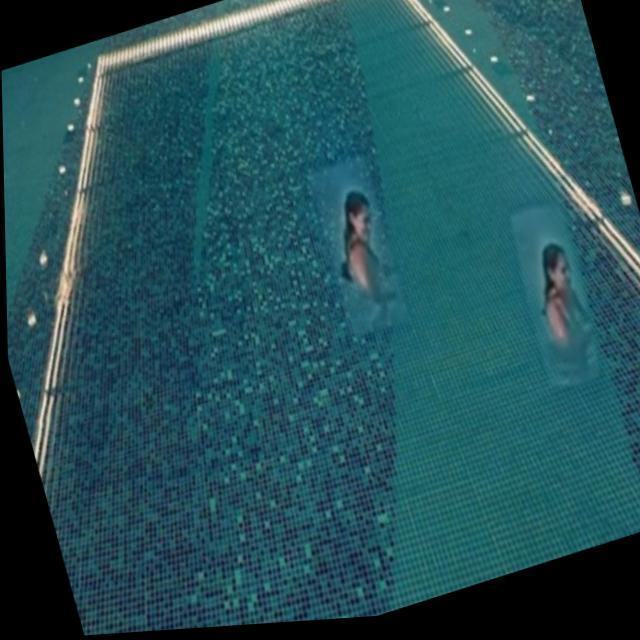swimming: (304, 196, 424, 317), (512, 232, 602, 352)
